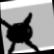not correct: (0, 9, 41, 54)
